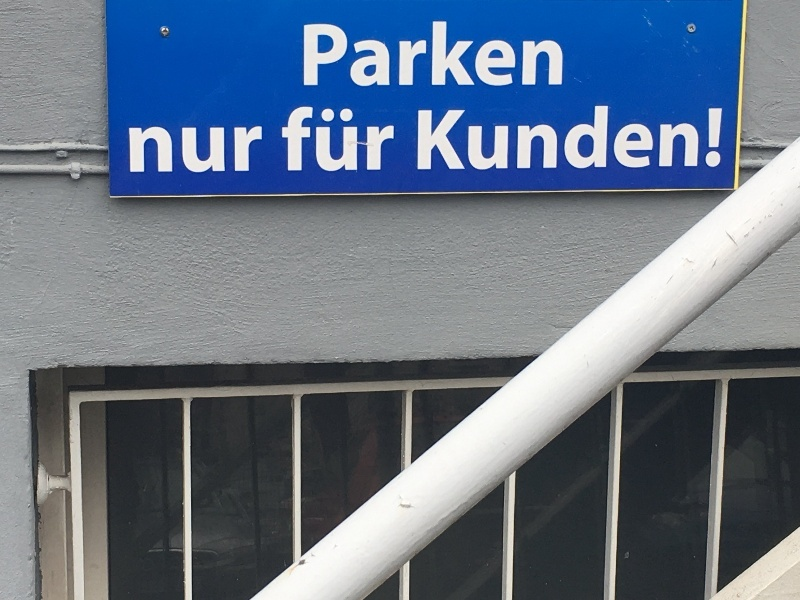text: (289, 105, 304, 174), (305, 105, 320, 174), (321, 105, 336, 174), (337, 105, 352, 174), (353, 105, 368, 174), (369, 105, 384, 174), (305, 22, 320, 88), (321, 22, 336, 88), (337, 22, 352, 88), (353, 22, 368, 88), (369, 22, 384, 88), (385, 22, 400, 88), (401, 22, 416, 88), (417, 22, 432, 88), (433, 22, 448, 88), (449, 22, 464, 88), (465, 22, 480, 88), (481, 22, 496, 88), (497, 22, 512, 88), (513, 22, 528, 88), (529, 22, 544, 88), (545, 22, 560, 88), (433, 107, 448, 173), (449, 107, 464, 173), (465, 107, 480, 173), (481, 107, 496, 173), (497, 107, 512, 173), (513, 107, 528, 173), (529, 107, 544, 173), (545, 107, 560, 173), (561, 107, 576, 173), (577, 107, 592, 173), (593, 107, 608, 173), (609, 107, 624, 173), (625, 107, 640, 173), (641, 107, 656, 173), (657, 107, 672, 173), (673, 107, 688, 173), (689, 107, 704, 173), (705, 107, 720, 173), (418, 107, 432, 173), (129, 126, 144, 174), (145, 126, 160, 174), (161, 126, 176, 174), (177, 126, 192, 174), (193, 126, 208, 174), (209, 126, 224, 174), (225, 126, 240, 174), (241, 126, 256, 174), (385, 105, 395, 174), (281, 105, 288, 174), (721, 107, 725, 173), (257, 126, 262, 174), (561, 22, 563, 88)
